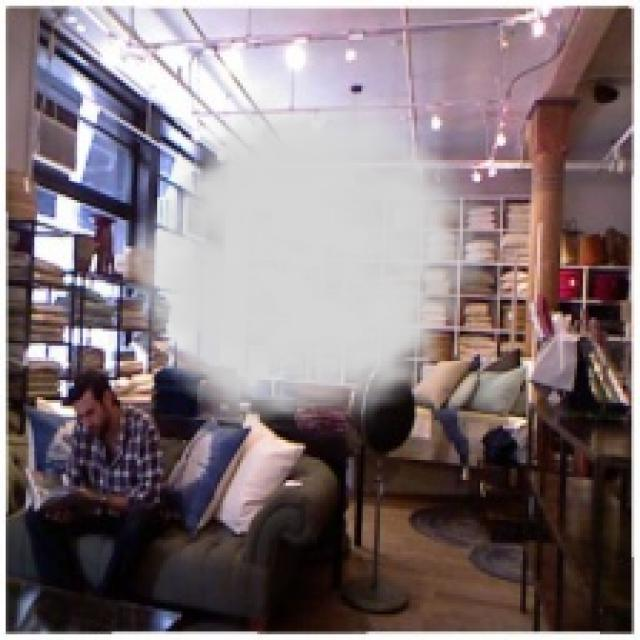Smoke: (108, 88, 506, 443)
